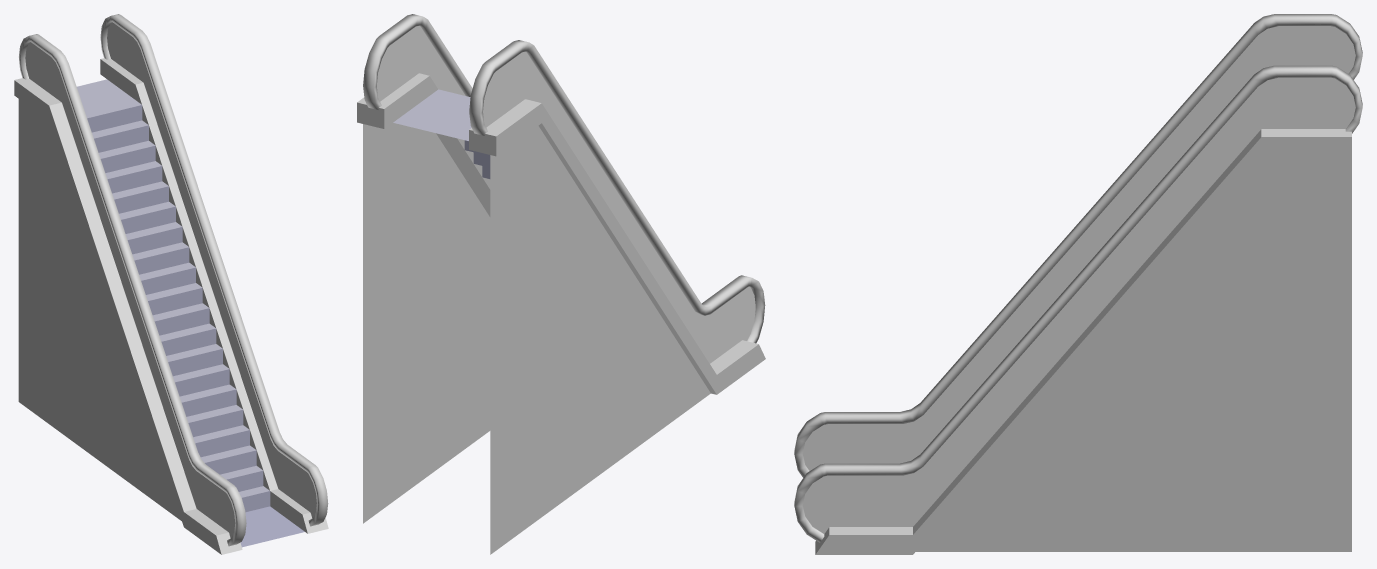
The model's file is Escalator.fbx.
The picture shows the model from 3 angles, left to right: view 1: azimuth 30°, elevation 25°; view 2: azimuth 150°, elevation 25°; view 3: azimuth 270°, elevation 25°; orthographic projection. The views are drawn at different scales.
Parts seen in each view (by area): view 1: Cube.172, Cube.175; view 2: Cube.172, Cube.175; view 3: Cube.172, Cube.175.
Boxes of the visible parts, x1,y1,x2,y2 form: Cube.172: [14, 14, 328, 554]; Cube.175: [25, 22, 316, 537]; Cube.172: [357, 14, 765, 554]; Cube.175: [377, 26, 755, 363]; Cube.172: [794, 14, 1362, 554]; Cube.175: [803, 26, 1355, 533].
Bounding box in the file's own units: 219 × 722 × 776.
